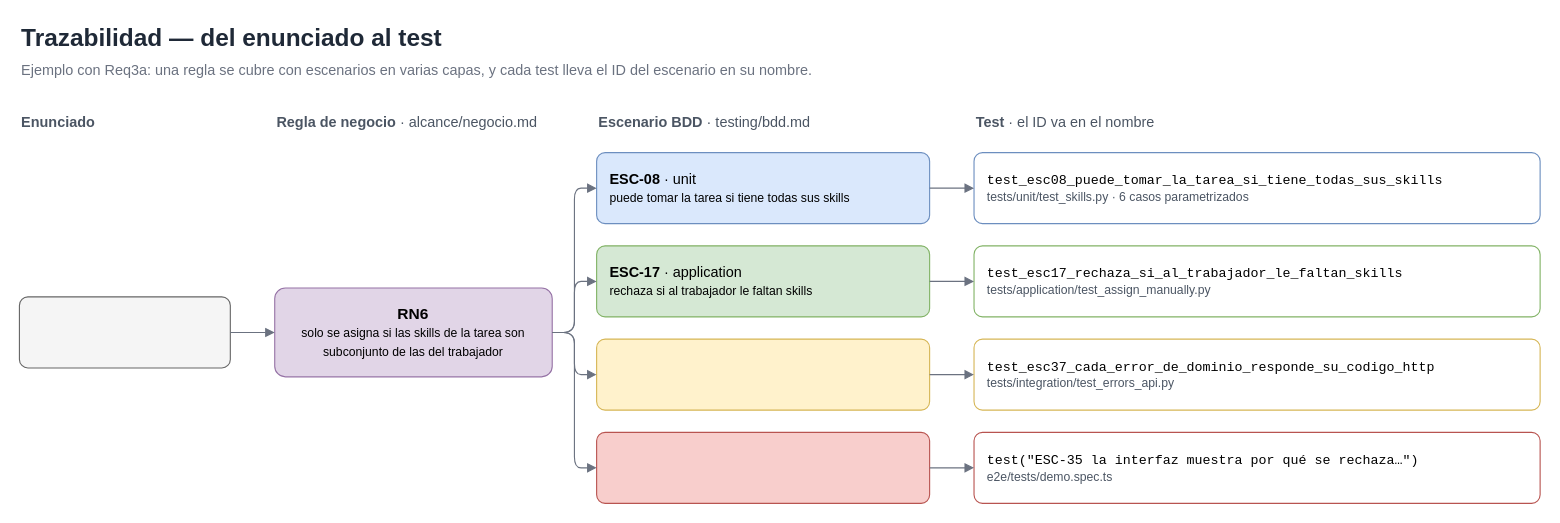
Some shapes in this 1560 by 523 pixel diagram are drawn without their labels. Here are the shapes that lost their labels. From the top down, the centre of each, then its label:
(x=124, y=332): Req3a task-skills ⊆ worker-skills
(x=763, y=374): ESC-37 · integration faltan skills (MissingSkills) → 409
(x=763, y=467): ESC-35 · e2e la interfaz muestra por qué se rechaza
